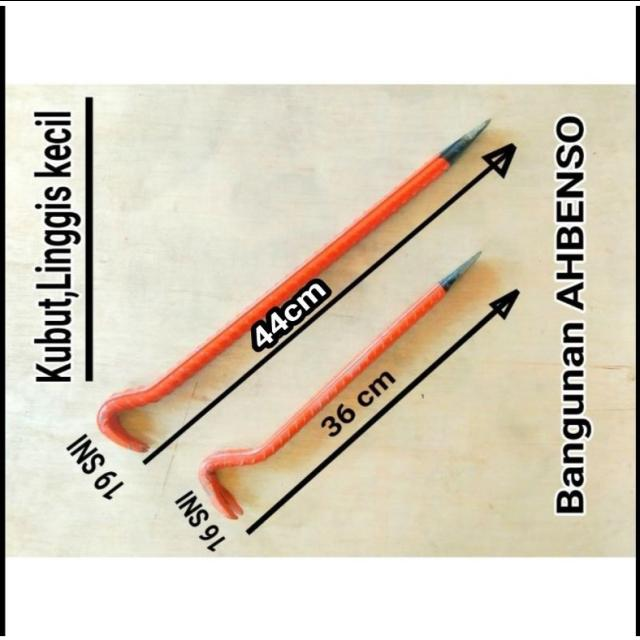Linggis: (99, 116, 493, 452)
